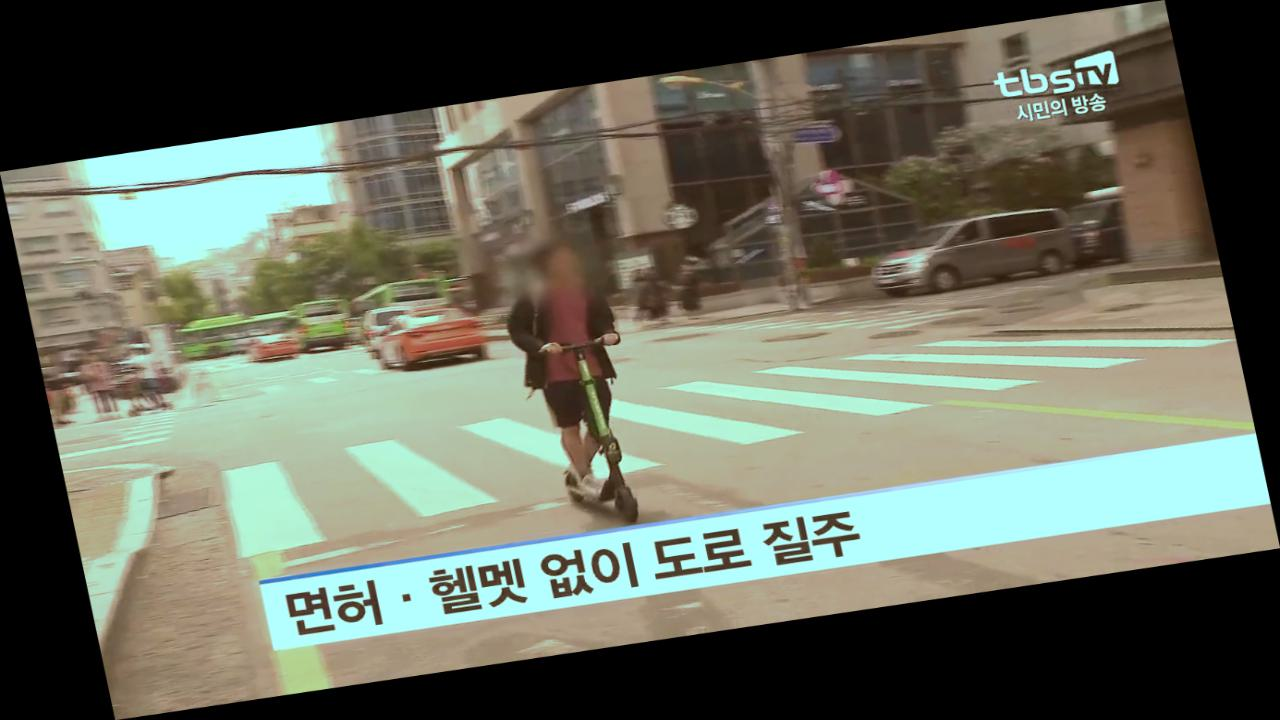nonhelmet: (491, 233, 664, 534)
